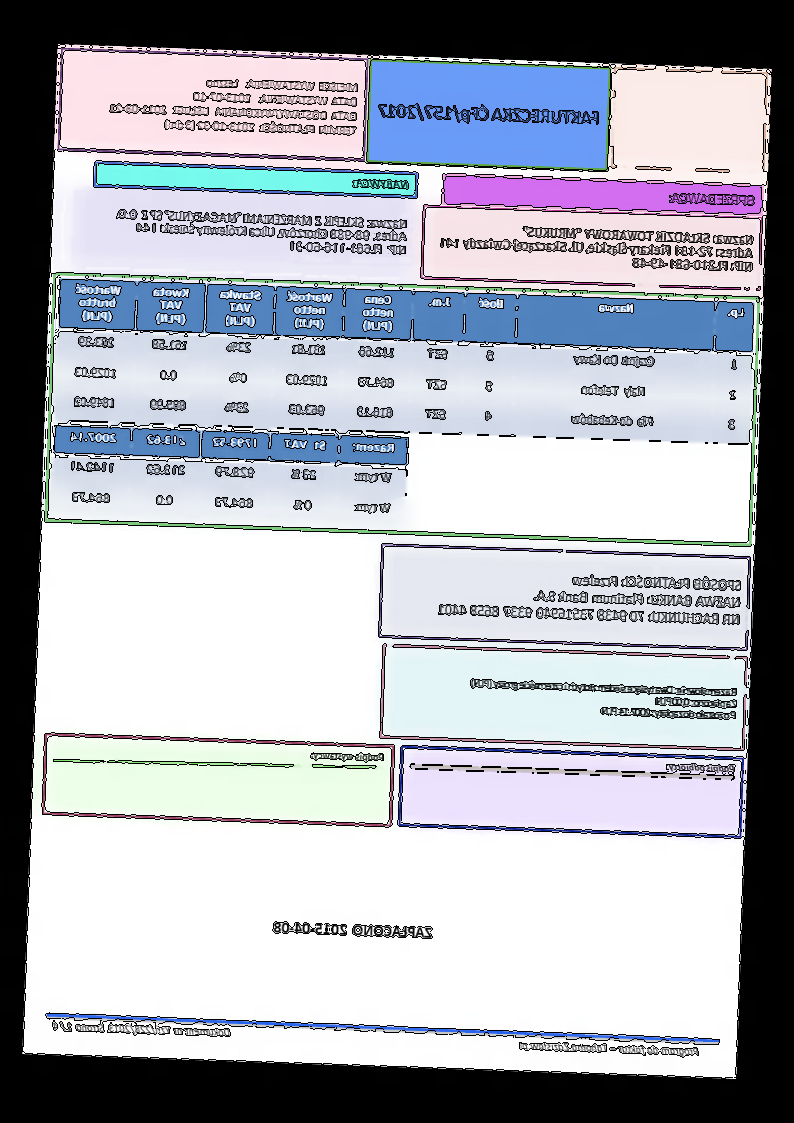Table: (56, 276, 757, 443), (49, 422, 411, 528)
TextBox: (434, 563, 747, 630), (438, 217, 757, 277), (105, 70, 364, 142), (112, 203, 412, 260), (465, 673, 740, 723), (375, 94, 608, 132), (517, 1033, 705, 1063), (269, 914, 440, 943), (46, 1018, 233, 1042), (667, 188, 760, 208), (663, 756, 739, 779), (309, 746, 392, 766), (352, 174, 412, 194)
